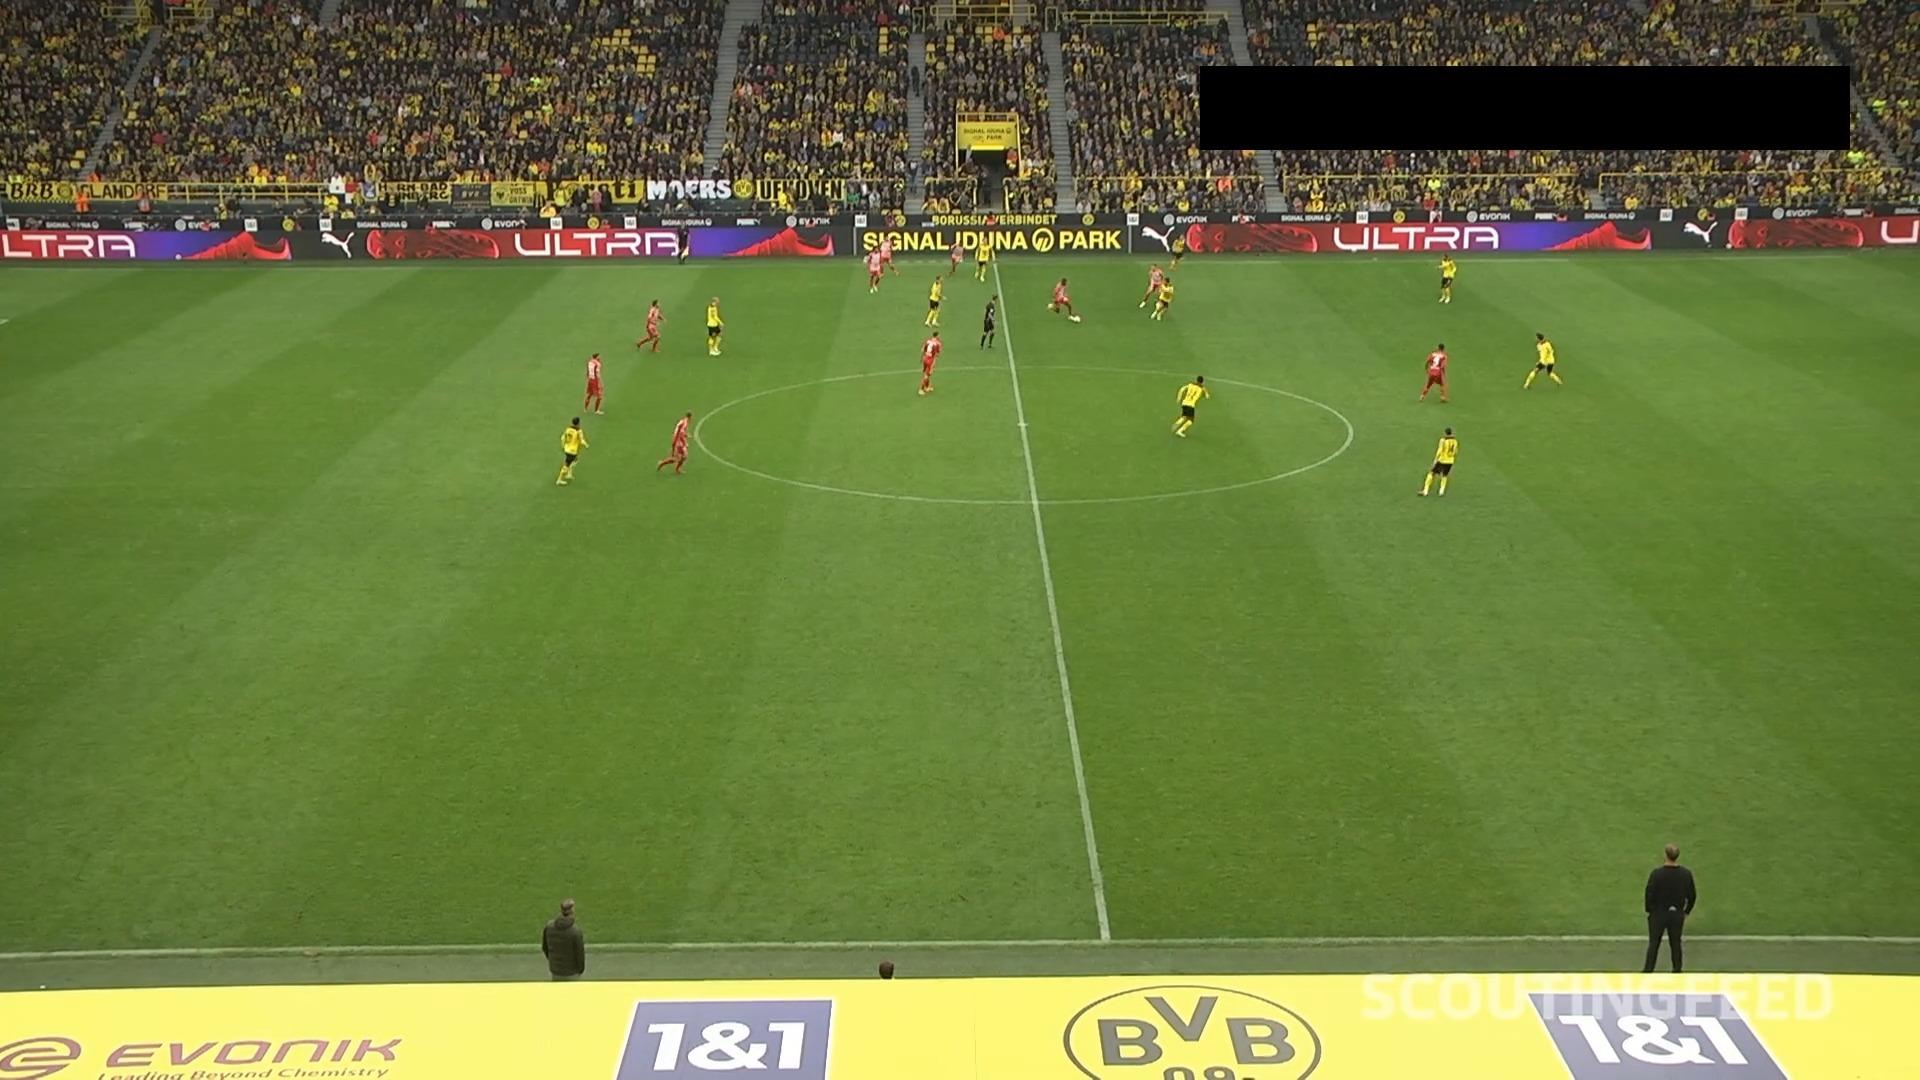ball: (1072, 314, 1083, 323)
